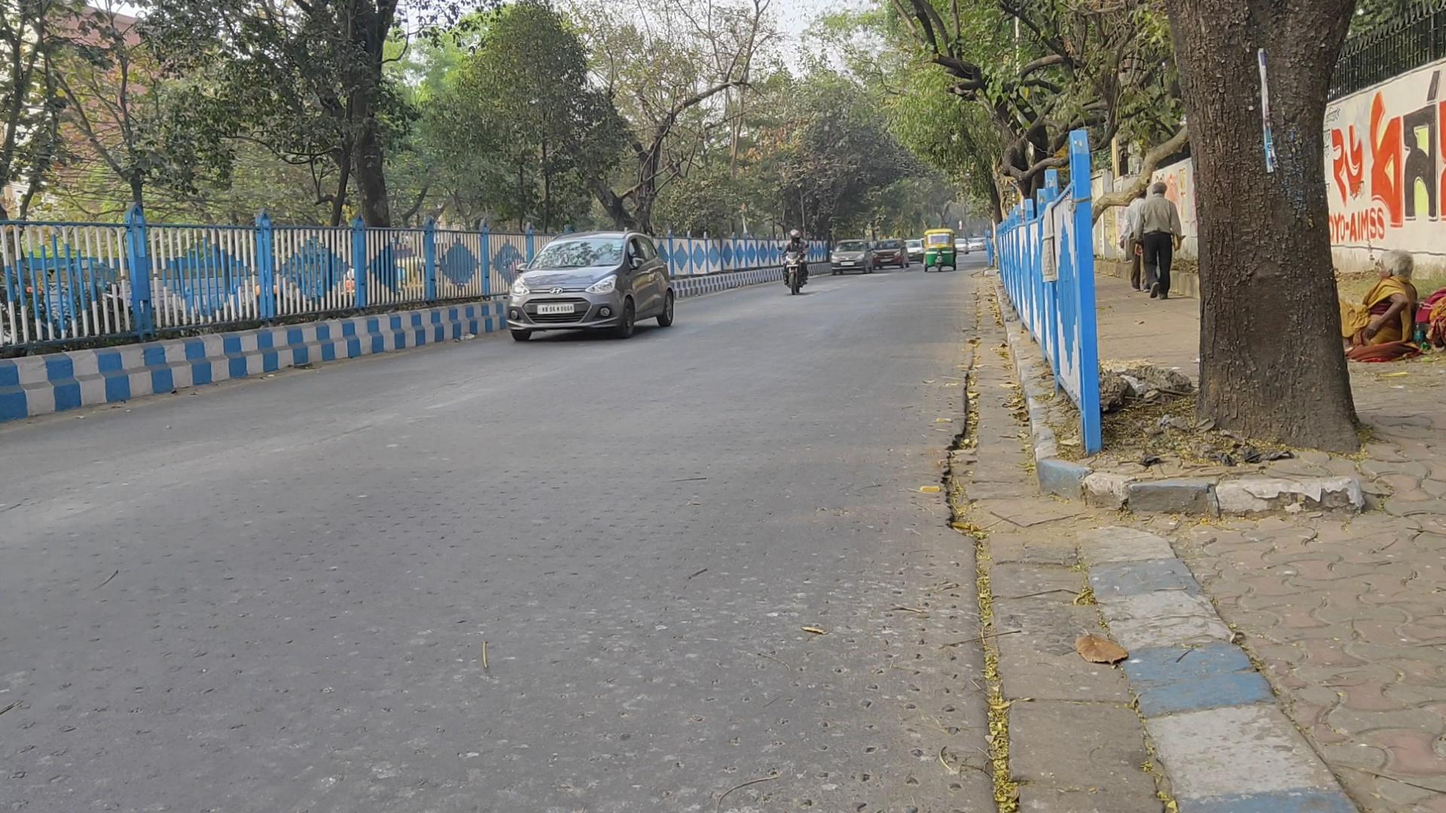Auto: (923, 227, 958, 276)
bike: (777, 227, 811, 295)
car: (506, 232, 674, 343), (830, 238, 875, 276), (872, 237, 910, 269), (905, 239, 926, 263)
